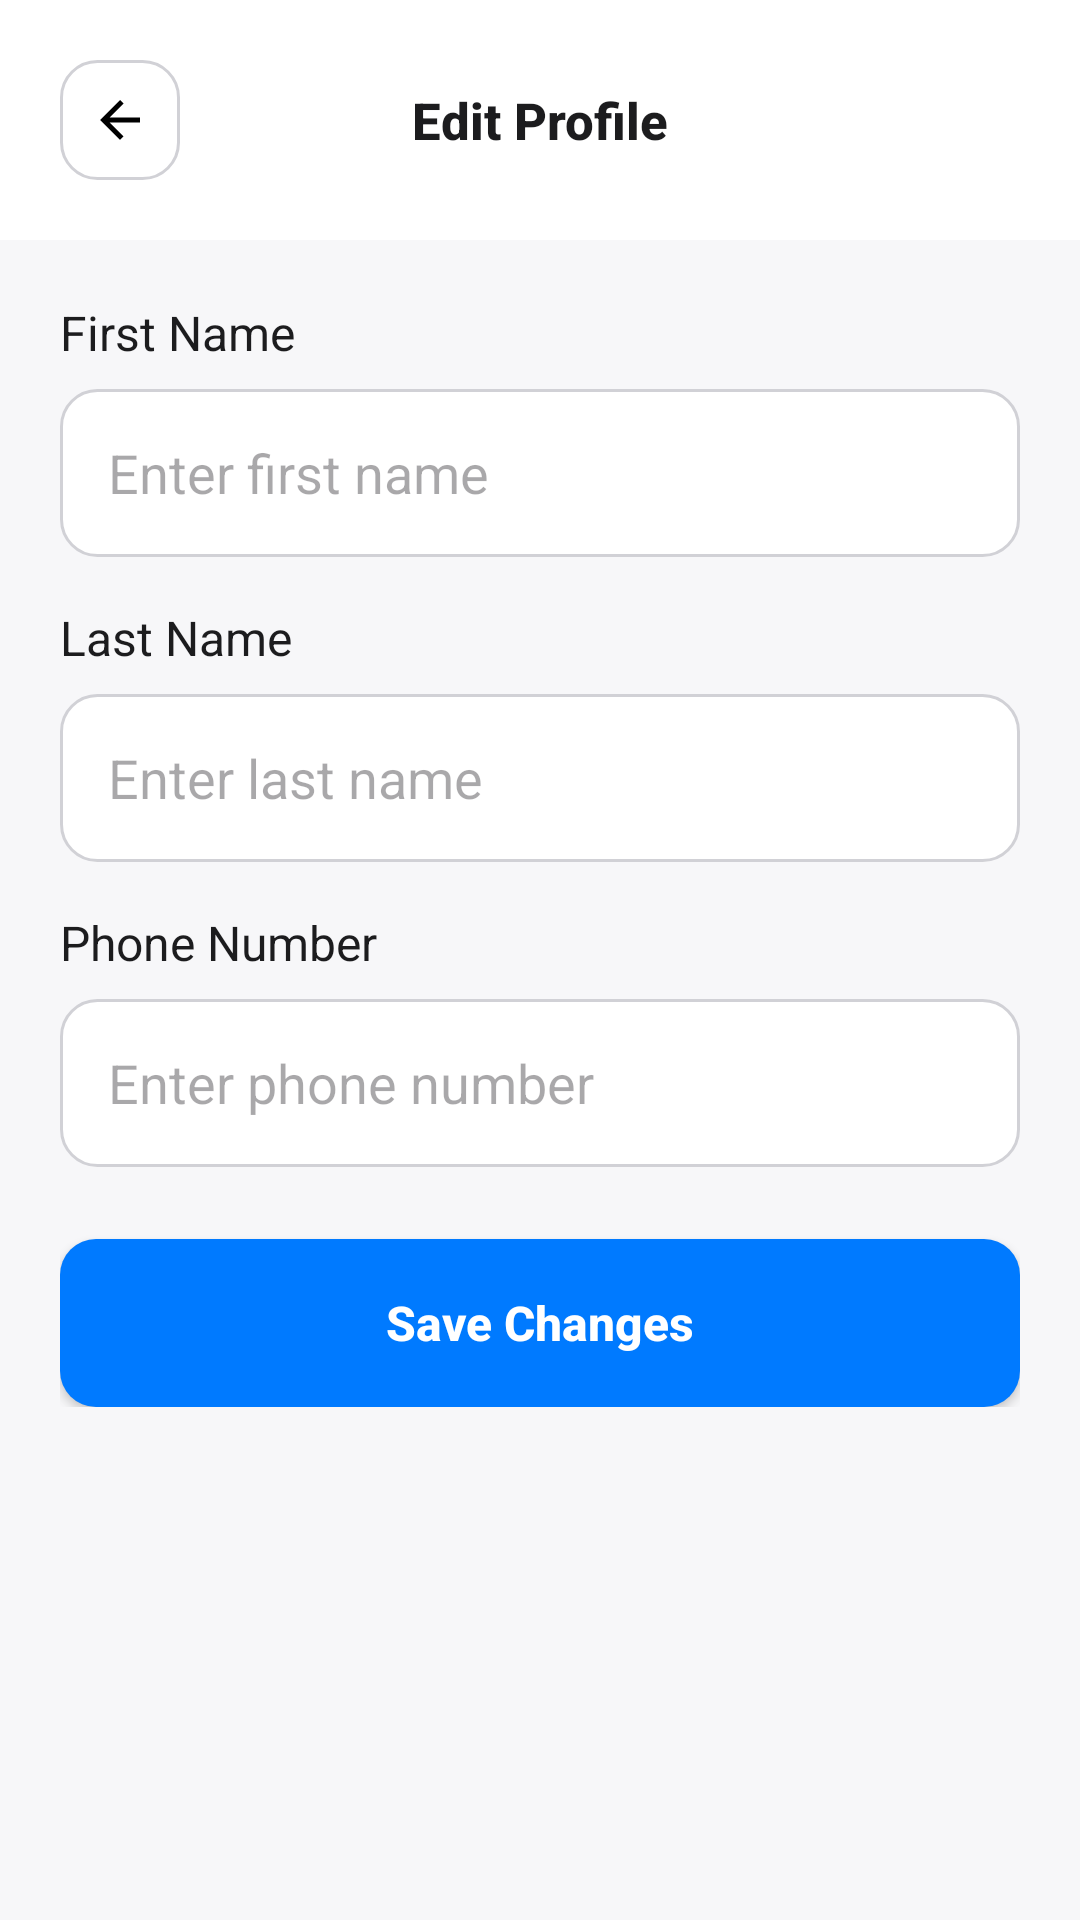

Locate icon controls on the screen. Image size 1080px x 1920px, boxes as [x1,y1,x2,y2].
back: [60,60,180,180]
